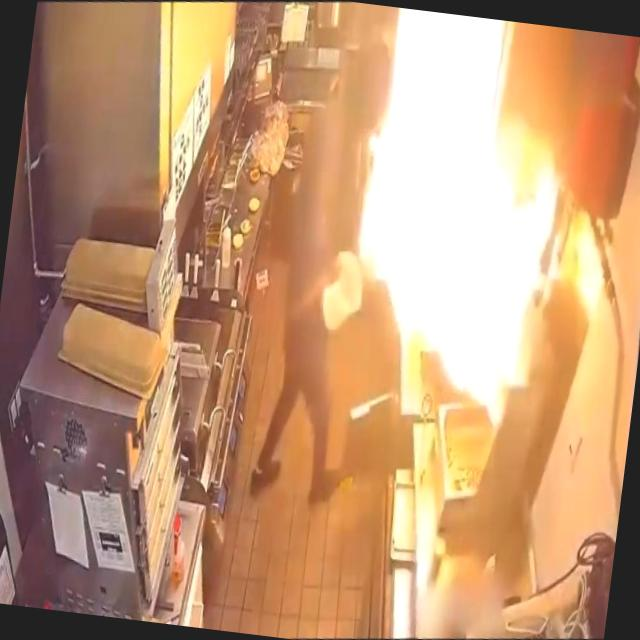fire: (315, 3, 640, 446)
